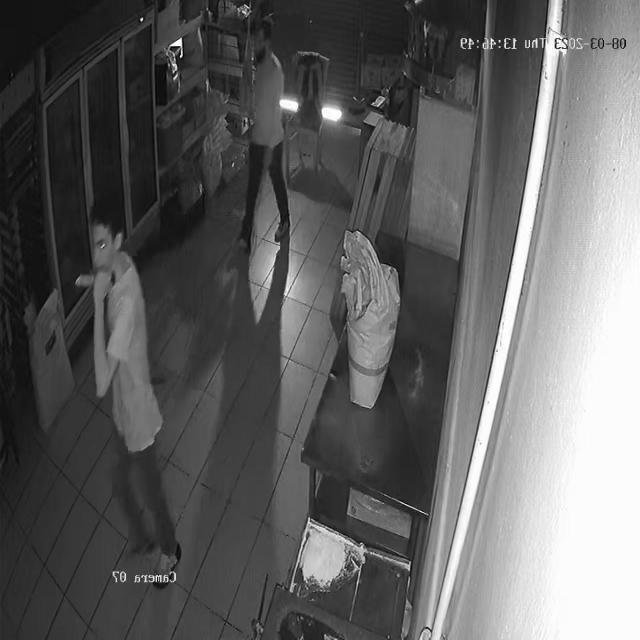Knife: (72, 271, 128, 300)
